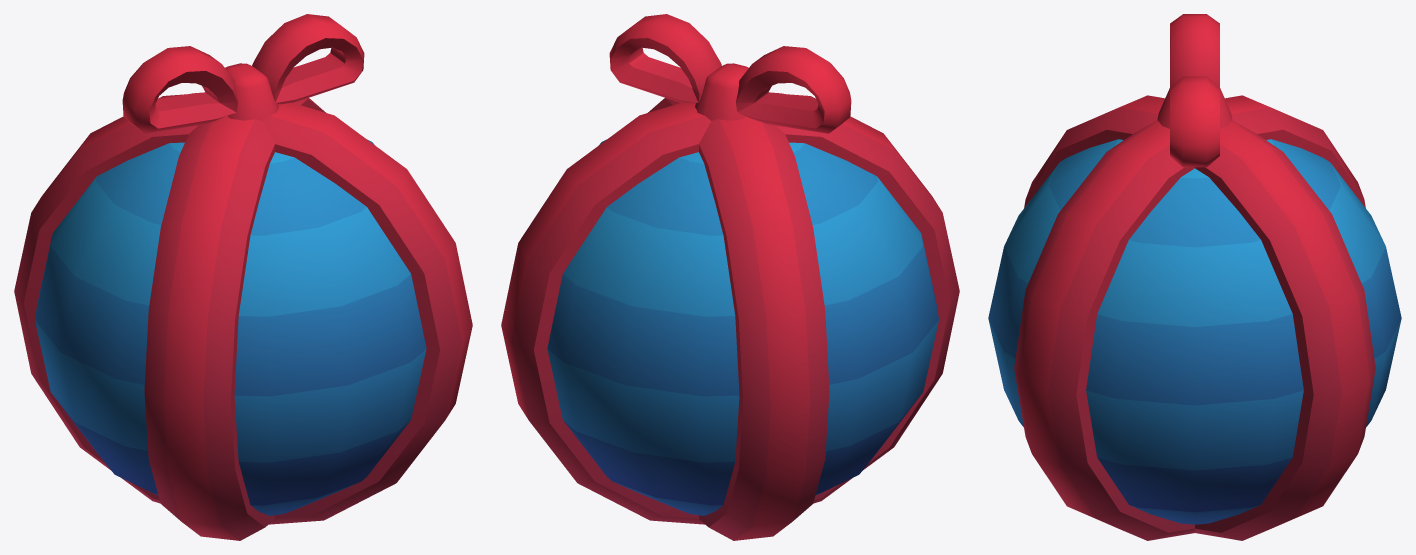
Rendered from present_sphere_B_blue.fbx.
The picture shows the model from 3 angles, left to right: view 1: azimuth 30°, elevation 25°; view 2: azimuth 150°, elevation 25°; view 3: azimuth 270°, elevation 25°; orthographic projection.
Visible parts, largest first — view 1: present_sphere_B_blue; view 2: present_sphere_B_blue; view 3: present_sphere_B_blue.
Boxes of the visible parts, <box> form: present_sphere_B_blue: <box>14,14,472,540</box>; present_sphere_B_blue: <box>501,14,959,540</box>; present_sphere_B_blue: <box>988,14,1401,540</box>.
Size of the model in its own units: 0.7933 by 1 by 0.7933.
